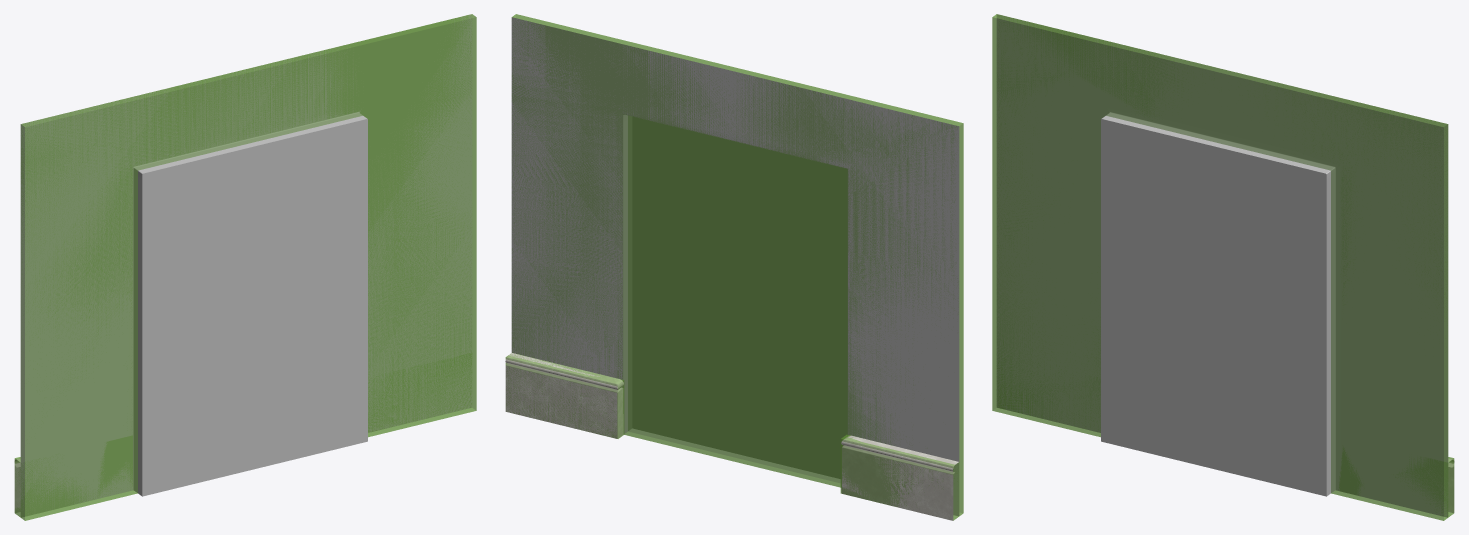
Rendered from F3_md_StreetWall_5x6_DL_01.fbx.
3 views of the same model, side by side, from view 1: azimuth 30°, elevation 25°; view 2: azimuth 150°, elevation 25°; view 3: azimuth 330°, elevation 25° (orthographic).
Parts seen in each view (by area): view 1: F3_md_StreetWall_5x6_DL_01_LOD0, F3_md_StreetWall_5x6_DL_01_col_01, F3_md_StreetWall_5x6_DL_01_col_03; view 2: F3_md_StreetWall_5x6_DL_01_LOD0, F3_md_StreetWall_5x6_DL_01_col_01, F3_md_StreetWall_5x6_DL_01_col_03, F3_md_StreetWall_5x6_DL_01_col_02; view 3: F3_md_StreetWall_5x6_DL_01_LOD0, F3_md_StreetWall_5x6_DL_01_col_01, F3_md_StreetWall_5x6_DL_01_col_02.
Boxes of the visible parts, box(x1,y1,x2,y2) form: F3_md_StreetWall_5x6_DL_01_LOD0: box(14, 14, 472, 516); F3_md_StreetWall_5x6_DL_01_col_01: box(20, 14, 476, 520); F3_md_StreetWall_5x6_DL_01_col_03: box(14, 436, 132, 517); F3_md_StreetWall_5x6_DL_01_LOD0: box(505, 17, 959, 520); F3_md_StreetWall_5x6_DL_01_col_01: box(511, 14, 963, 515); F3_md_StreetWall_5x6_DL_01_col_03: box(840, 434, 959, 520); F3_md_StreetWall_5x6_DL_01_col_02: box(505, 354, 624, 438); F3_md_StreetWall_5x6_DL_01_LOD0: box(996, 14, 1454, 517); F3_md_StreetWall_5x6_DL_01_col_01: box(992, 14, 1448, 520); F3_md_StreetWall_5x6_DL_01_col_02: box(1339, 448, 1454, 517).
Size of what is drawn, in the model's own units: 600 by 500 by 34.72.
